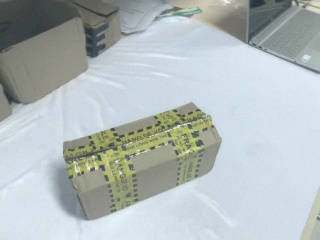box: (65, 102, 221, 219), (49, 1, 121, 58)
